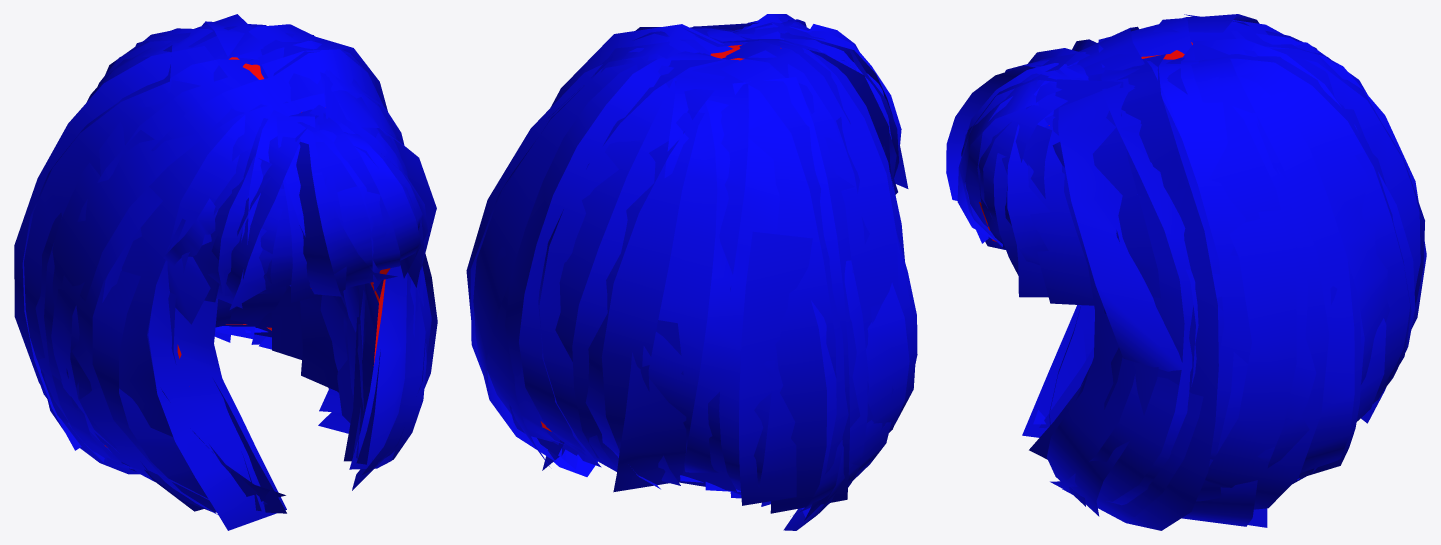
File: hair_005.obj
3 renders of one model, left to right at view 1: azimuth 30°, elevation 25°; view 2: azimuth 150°, elevation 25°; view 3: azimuth 270°, elevation 25°, orthographic. The views are drawn at different scales.
Size of the model in its own units: 25.34 by 27.29 by 26.97.
